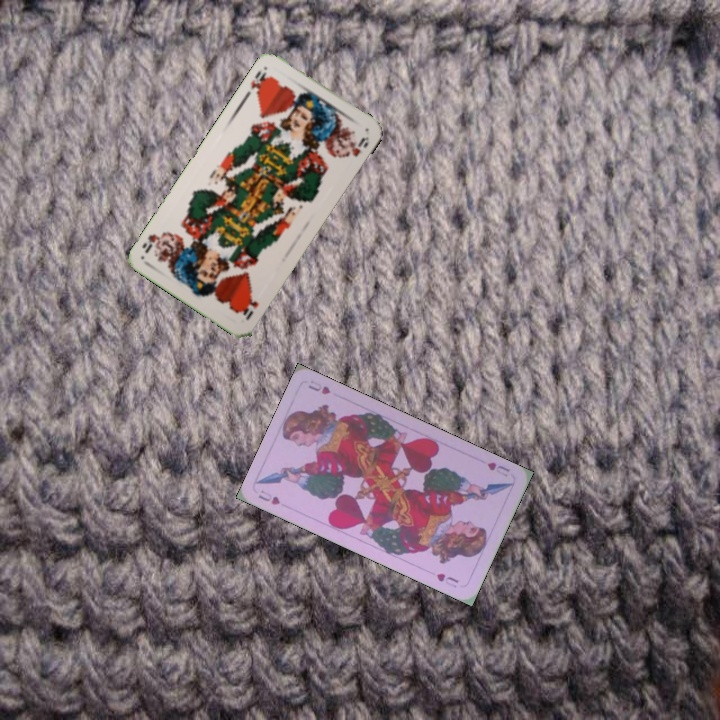HO: (242, 66, 273, 99), (239, 294, 261, 323)
HU: (483, 458, 513, 479), (254, 486, 282, 508)
